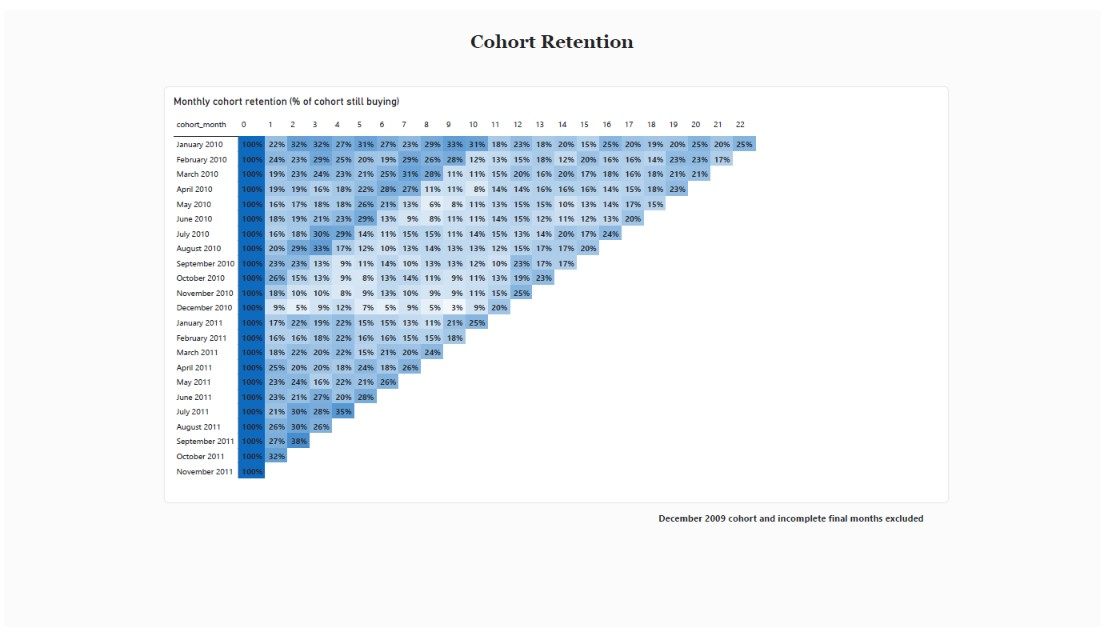

What the dashboard file says about the page in this screenshot:
{"tool":"powerbi","page":{"name":"Cohort retention","canvas":[1920,1080],"ordinal":2},"visuals":[{"type":"pivotTable","title":"Monthly cohort retention (% of cohort still buying)","fields":{"Columns":["cohort_retention.month_index"],"Rows":["cohort_retention.cohort_month"],"Values":["cohort_retention.Retention"]},"box":[279.6,132.7,1375.5,730.6],"z":0},{"type":"textbox","box":[1130.6,877.6,495.9,24.5],"z":1000},{"type":"textbox","box":[0,36.7,1920,45],"z":2000}]}

Visuals, with their boxes in screenshot pixels (x1, y1, x2, y2), scaled from the page's 1920x1080 canvas onto the 1111x636 screenshot:
"Monthly cohort retention (% of cohort still buying)" pivotTable: 162, 78, 958, 508
textbox: 654, 517, 941, 531
textbox: 0, 22, 1110, 48
